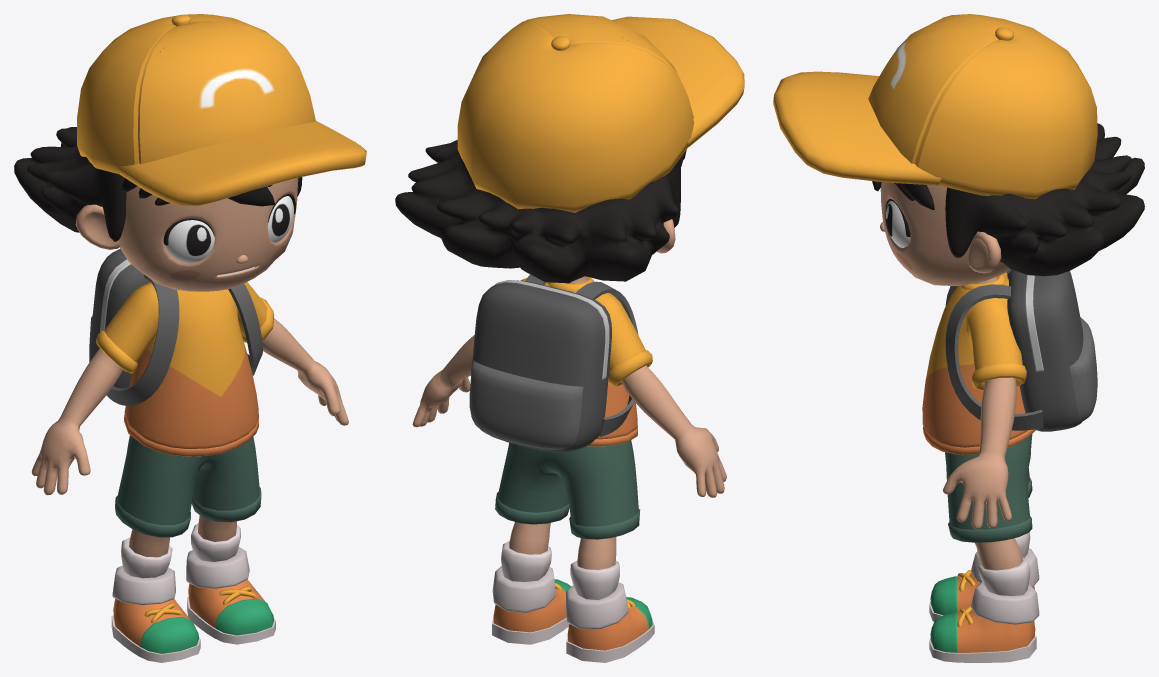
File: char_gopal.glb
The picture shows the model from 3 angles, left to right: view 1: azimuth 30°, elevation 25°; view 2: azimuth 150°, elevation 25°; view 3: azimuth 270°, elevation 25°; orthographic projection.
Parts seen in each view (by area): view 1: Cap, Body, Circle.002, Cube.011, Cube.009, Hair, Cube.015, Eye.l; view 2: Cap, Cube.015, Hair, Cube.011, Cube.009, Body, Circle.002; view 3: Cap, Hair, Cube.015, Body, Cube.011, Circle.002, Cube.009, Eye.l.
Part boxes in pixels (x1,y1,x2,y2): Cap: (77, 14, 366, 205); Body: (31, 178, 348, 557); Circle.002: (96, 282, 274, 456); Cube.011: (111, 523, 275, 662); Cube.009: (115, 435, 261, 537); Hair: (14, 127, 302, 241); Cube.015: (89, 248, 262, 405); Eye.l: (166, 196, 293, 262); Cap: (457, 14, 744, 212); Cube.015: (469, 274, 638, 452); Hair: (395, 140, 686, 283); Cube.011: (492, 541, 654, 662); Cube.009: (495, 440, 640, 539); Body: (412, 219, 726, 569); Circle.002: (521, 277, 652, 446); Cap: (773, 14, 1097, 199); Hair: (872, 123, 1144, 276); Cube.015: (945, 269, 1097, 431); Body: (880, 182, 1023, 570); Cube.011: (929, 532, 1039, 662); Circle.002: (922, 272, 1035, 454); Cube.009: (945, 434, 1032, 542); Eye.l: (885, 201, 910, 247).
Bounding box in the file's own units: 0.8912 × 1.71 × 0.9604.
2 materials, 2 textured.
